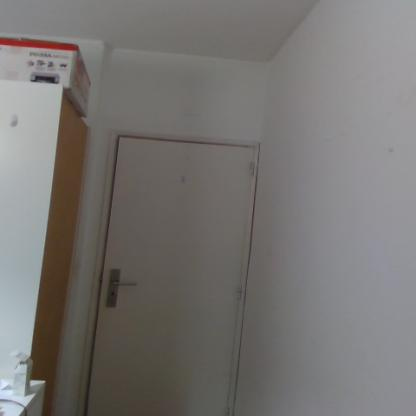door: (93, 135, 256, 415)
hinged: (250, 160, 255, 178), (238, 284, 243, 301), (225, 405, 233, 415)
lever: (110, 277, 140, 291)
